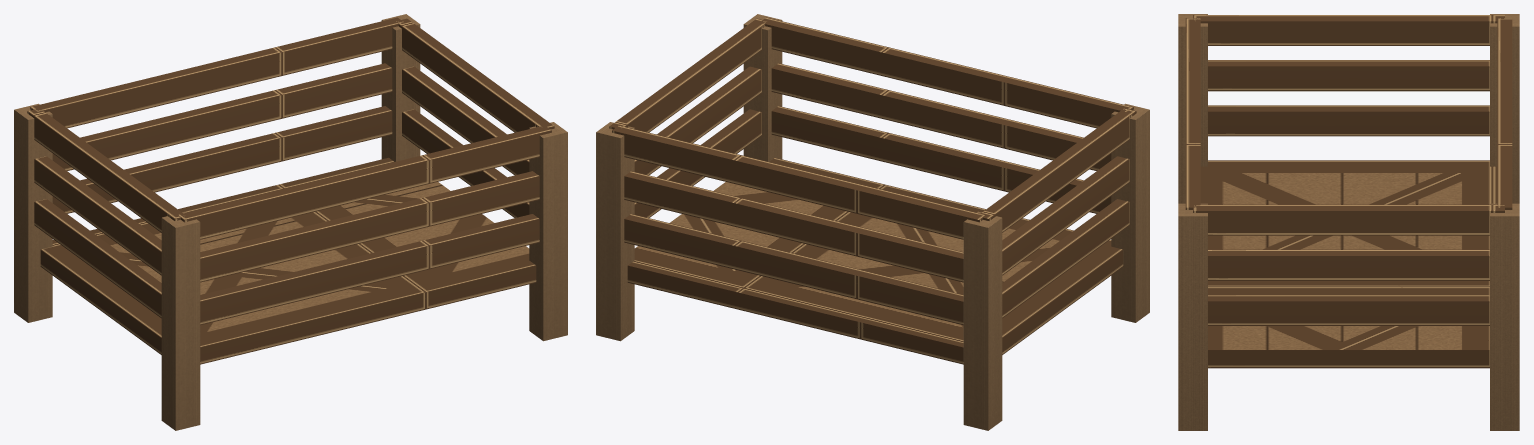
Rendered from cart_frame.glb.
3 renders of one model, left to right at view 1: azimuth 30°, elevation 25°; view 2: azimuth 150°, elevation 25°; view 3: azimuth 270°, elevation 25°, orthographic. The views are drawn at different scales.
Visible parts, largest first — view 1: cart_frame; view 2: cart_frame; view 3: cart_frame.
Boxes of the visible parts, x1,y1,x2,y2 form: cart_frame: (14,14,567,430); cart_frame: (596,14,1149,430); cart_frame: (1178,14,1519,430).
Size of the model in its own units: 1.92 by 0.96 by 1.37.
2 materials, 2 textured.
